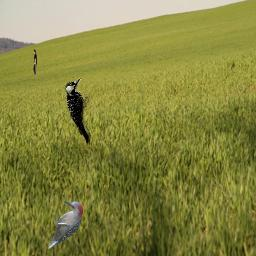Woodpecker: (62, 76, 96, 151), (47, 200, 83, 250)
